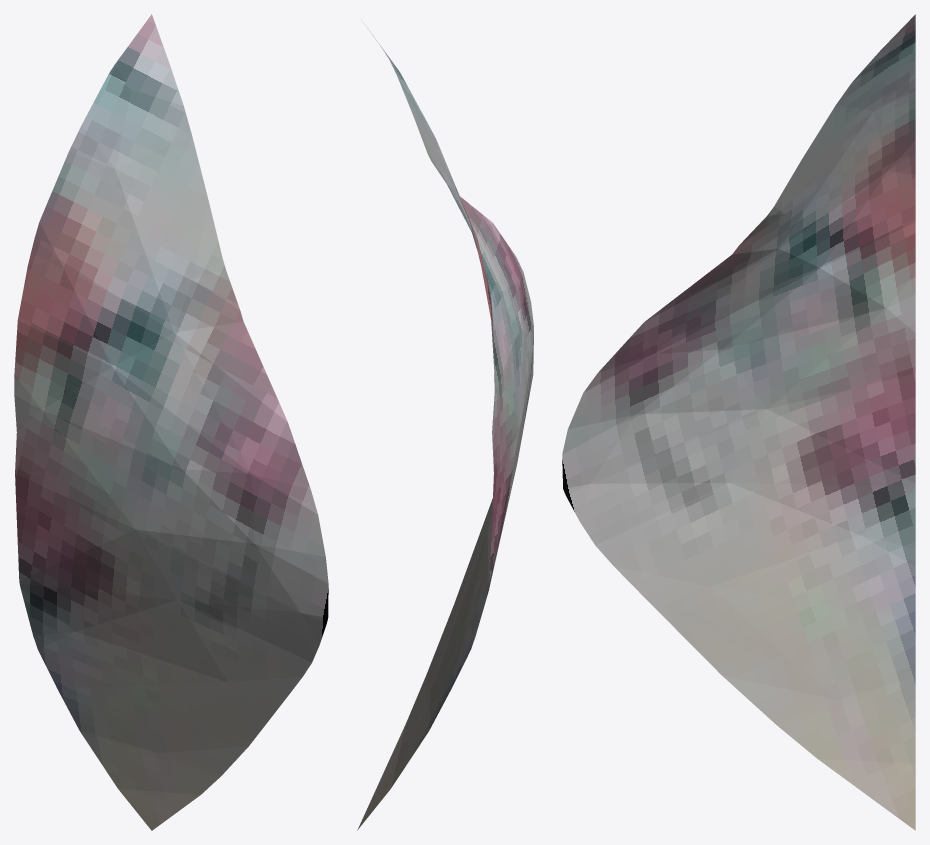
The picture shows the model from 3 angles, left to right: view 1: azimuth 30°, elevation 25°; view 2: azimuth 150°, elevation 25°; view 3: azimuth 270°, elevation 25°; orthographic projection.
Visible parts, largest first — view 1: 091_W_Aya_100K_01; view 2: 091_W_Aya_100K_01; view 3: 091_W_Aya_100K_01.
Part boxes in pixels (x1,y1,x2,y2): 091_W_Aya_100K_01: (14, 14, 328, 830); 091_W_Aya_100K_01: (357, 25, 533, 830); 091_W_Aya_100K_01: (562, 14, 915, 830).
Size of the model in its own units: 7.5 by 42.56 by 16.69.
1 material, 1 textured.
